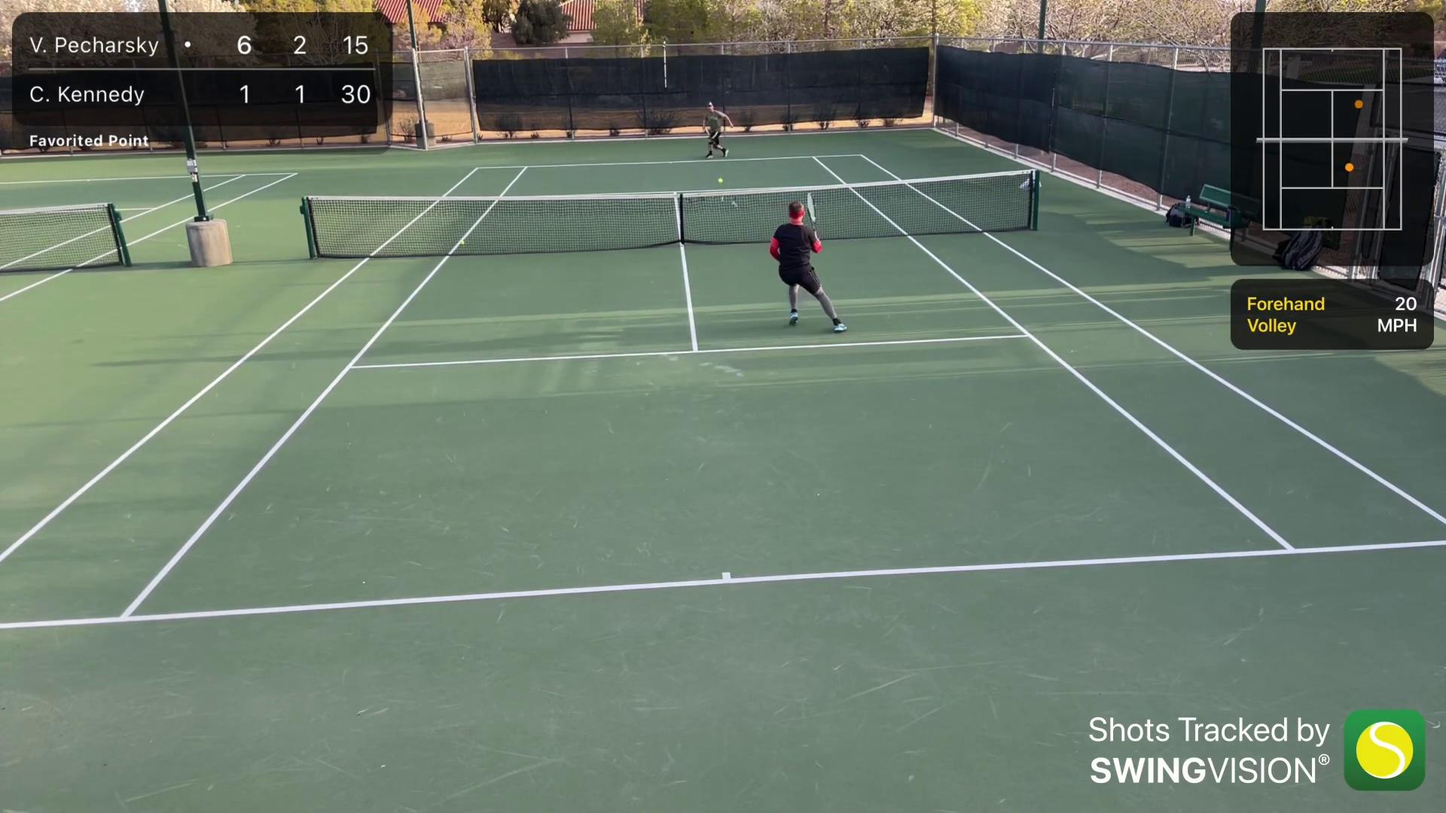ball: (717, 178, 724, 185), (192, 399, 197, 402)
